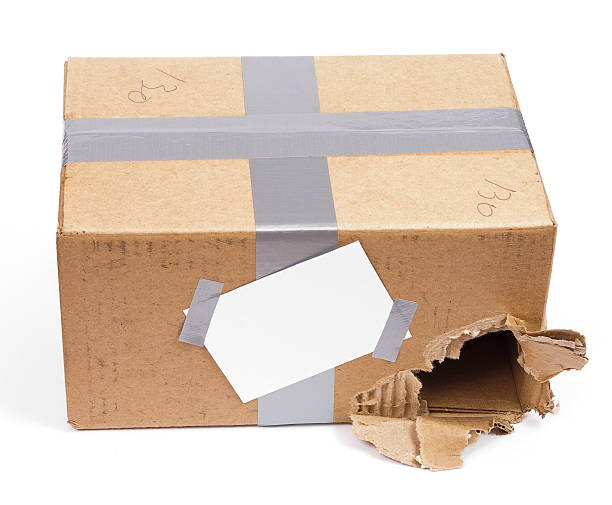damaged package: (366, 308, 586, 468)
